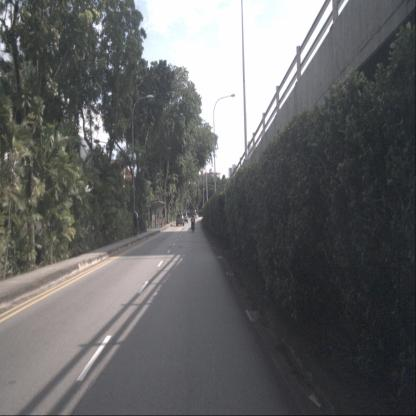human-pedestrian-adult: (133, 208, 139, 238), (156, 212, 160, 226)
vehicle-car: (176, 213, 185, 226), (181, 212, 188, 222)
vehicle-motorcycle: (191, 214, 196, 233)
